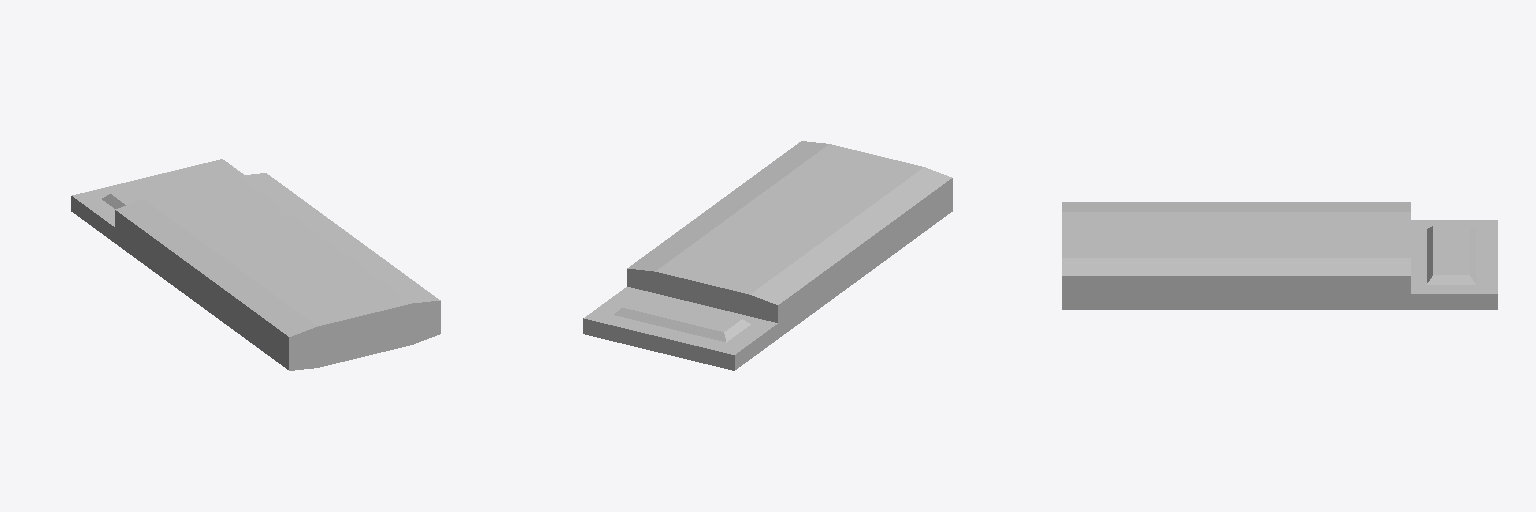
File: Спальный мешок.obj
3 views of the same model, side by side, from view 1: azimuth 30°, elevation 25°; view 2: azimuth 150°, elevation 25°; view 3: azimuth 270°, elevation 25° (orthographic).
Visible parts, largest first — view 1: Cube; view 2: Cube; view 3: Cube.
Boxes of the visible parts, box(x1,y1,x2,y2) form: Cube: box(71, 159, 440, 370); Cube: box(583, 141, 952, 370); Cube: box(1062, 202, 1497, 309).
Bounding box in the file's own units: 2 × 0.5246 × 5.